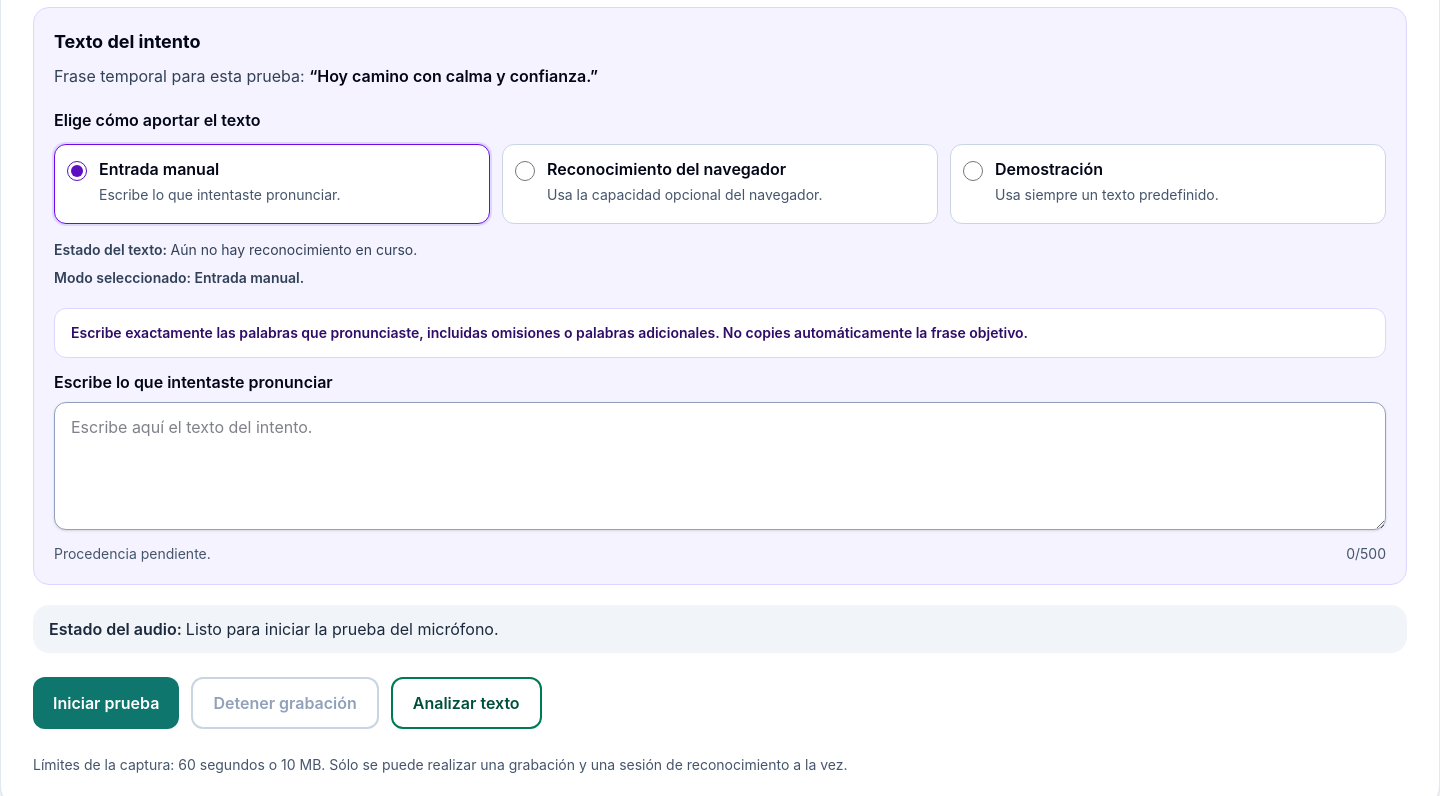
Test case: AudioRecorderCard › descarta una captura que supera 10 MB y detiene sus pistas
(page scrolled)
Click the button "Iniciar prueba" at (106, 703), box [33,677,179,729]
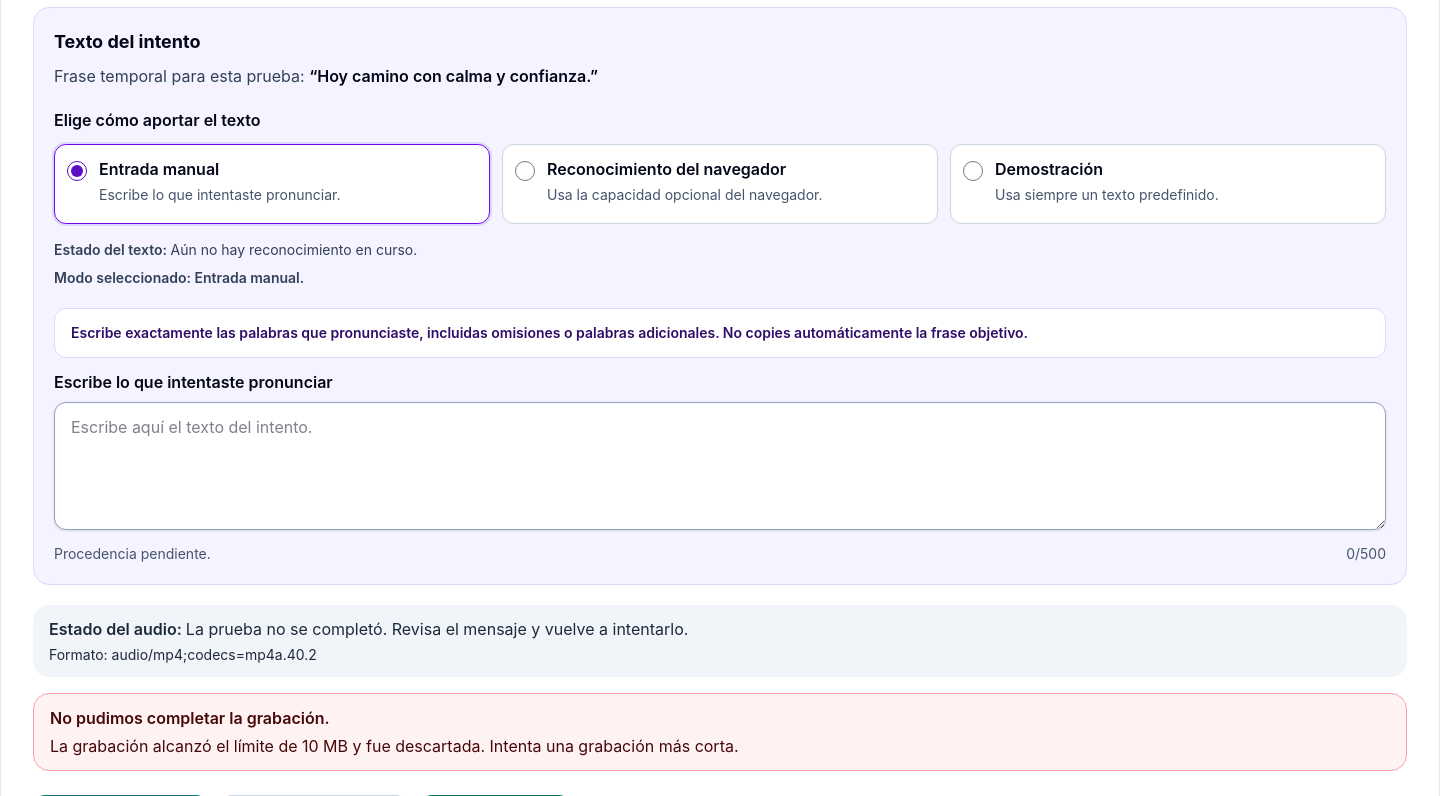
Expected: the message that starts with "No pudimos completar la grabación." shows "límite de 10 MB", [50,736,738,756]
